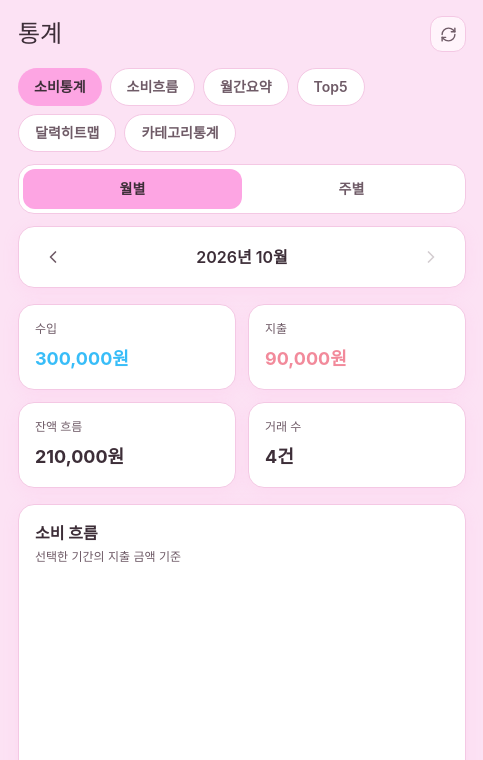
it: StatisticsPage › 달력히트맵 일자 상세 목록에서 할부 1회차를 원금으로 표시한다
This screenshot has width=483, height=760.
What coordinates should you click on to do the following:
click the button "달력히트맵"
I would click on:
 (67, 133)
Its box is [18,114,116,152].
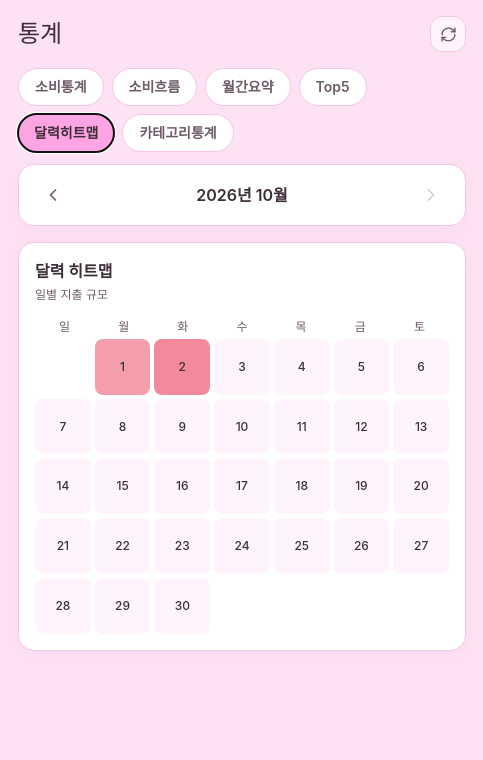
Now the element labelled "달력 히트맵" is shown, box [18,242,466,651]
What coordinates should you click on to do the following:
click the button named "1일"
I would click on:
 (123, 367)
Its box is [95,339,150,395].
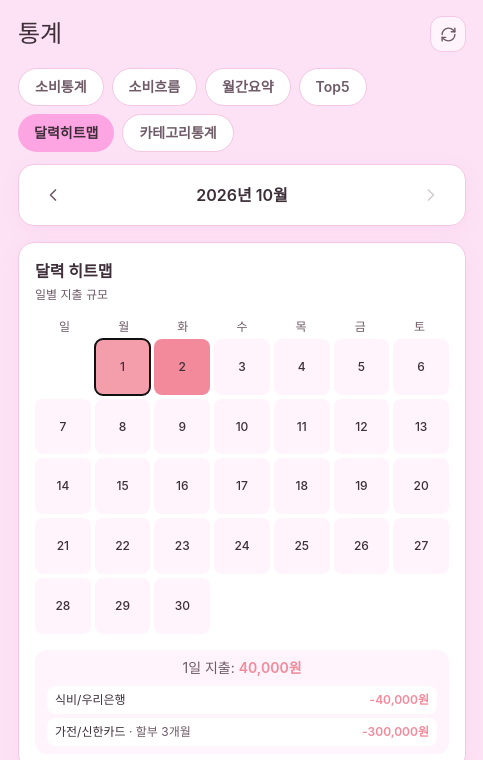
Now the text "식비/우리은행" is shown, box [55,692,126,708]
Now the text "가전/신한카드 · 할부 3개월" is shown, box [55,724,191,740]
Now the text "-300,000원" is shown, box [362,724,429,740]
